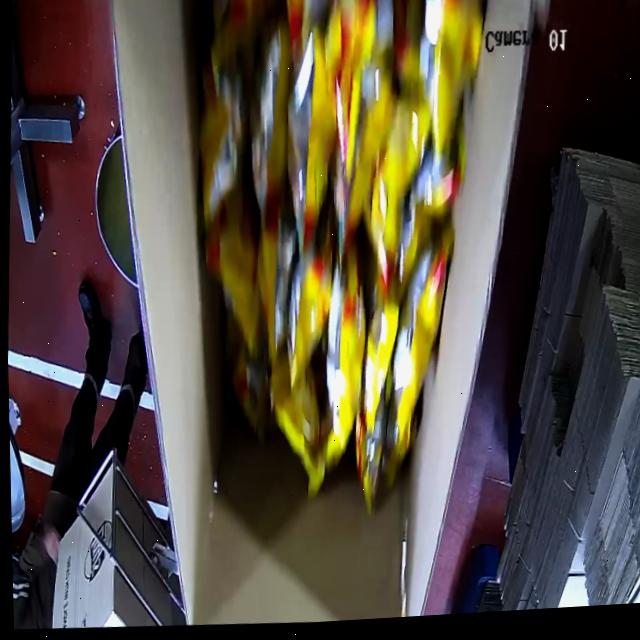SALTED: (203, 0, 489, 541)
